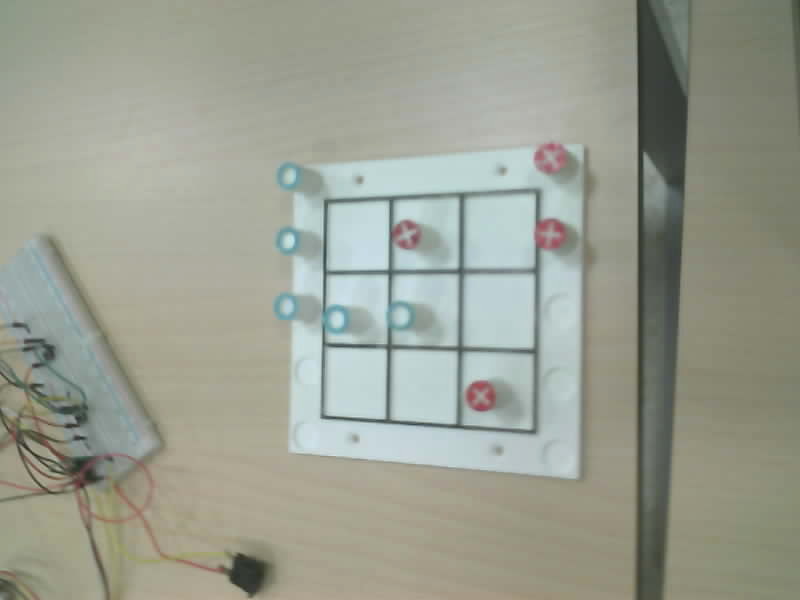blue circle: (386, 301, 415, 330), (322, 305, 349, 333), (276, 162, 301, 189), (275, 227, 299, 255), (273, 293, 298, 319)
board: (273, 143, 583, 477)
cells: (460, 352, 535, 429), (462, 273, 535, 348), (464, 191, 536, 267), (392, 196, 459, 269), (390, 350, 457, 423), (392, 274, 457, 345), (325, 200, 389, 270), (324, 348, 386, 418), (325, 275, 388, 343)
grid: (320, 188, 539, 432)
red cross: (534, 142, 567, 173), (465, 380, 496, 412), (534, 218, 566, 249), (391, 219, 420, 248)
